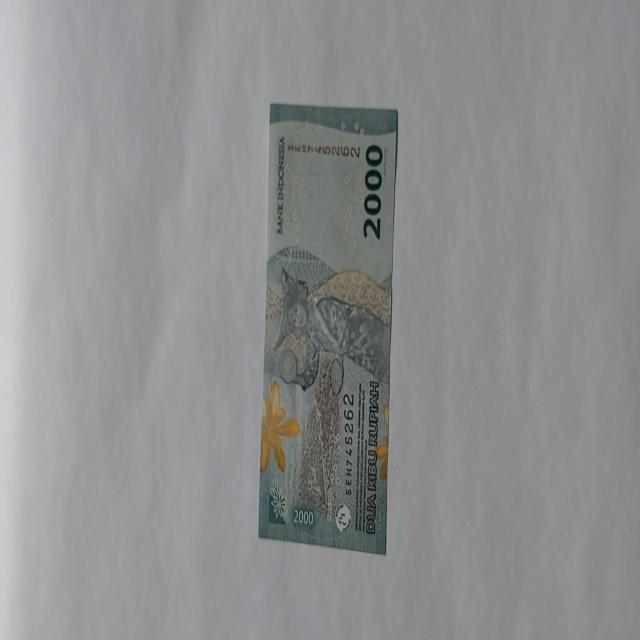dua ribu rupiah: (258, 102, 398, 555)
